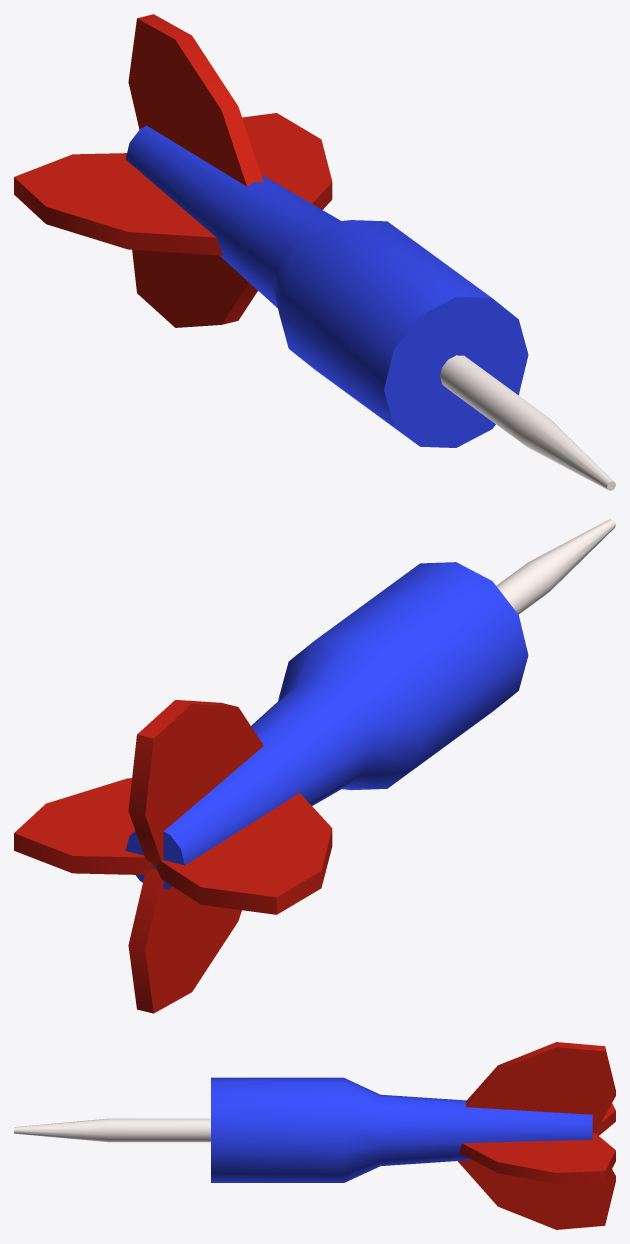
File: cay phi tieu.FBX
3 views of the same model, one above another, from view 1: azimuth 30°, elevation 25°; view 2: azimuth 150°, elevation 25°; view 3: azimuth 270°, elevation 25° (orthographic). The views are drawn at different scales.
Parts seen in each view (by area): view 1: Cylinder109; view 2: Cylinder109; view 3: Cylinder109.
Boxes of the visible parts, x1,y1,x2,y2 form: Cylinder109: [14, 14, 615, 490]; Cylinder109: [14, 519, 615, 1013]; Cylinder109: [14, 1042, 615, 1229].
Size of the model in its own units: 0.3853 by 0.3853 by 1.15.
